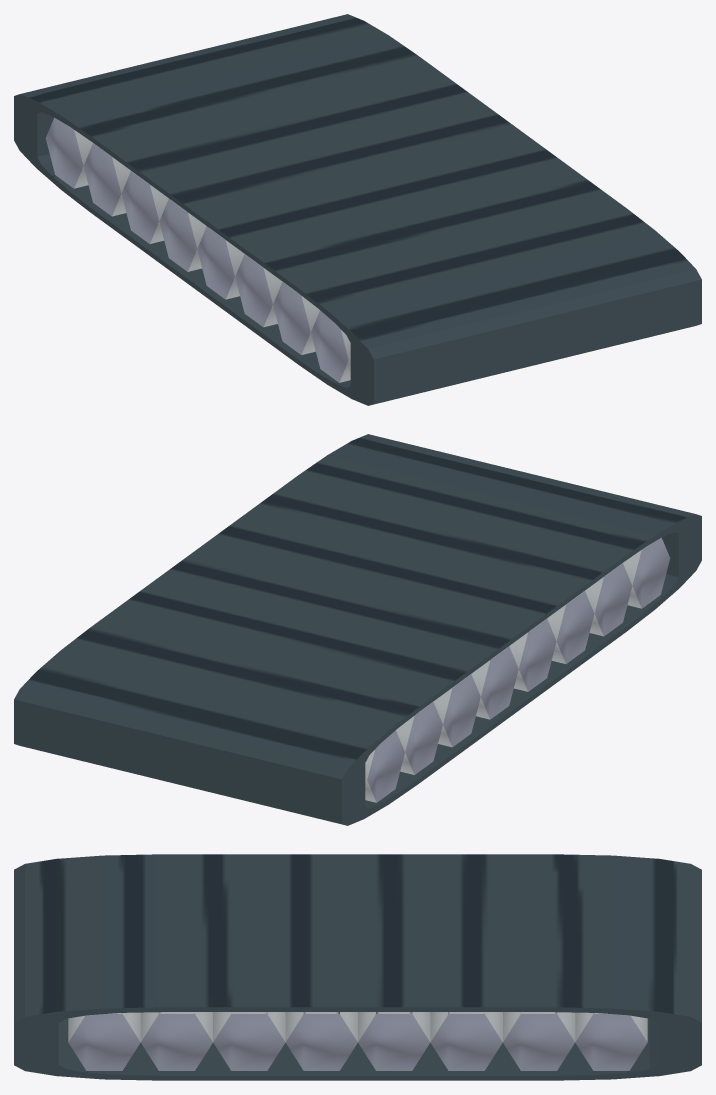
File: tread.glb
3 views of the same model, one above another, from view 1: azimuth 30°, elevation 25°; view 2: azimuth 150°, elevation 25°; view 3: azimuth 270°, elevation 25° (orthographic). The views are drawn at different scales.
Parts seen in each view (by area): view 1: tread; view 2: tread; view 3: tread.
Part boxes in pixels (x1,y1,x2,y2): tread: [14, 14, 701, 405]; tread: [14, 434, 701, 825]; tread: [14, 854, 701, 1080].
Bounding box in the file's own units: 2 × 0.4463 × 3.8.
Materials: 1 (1 with a texture image).
